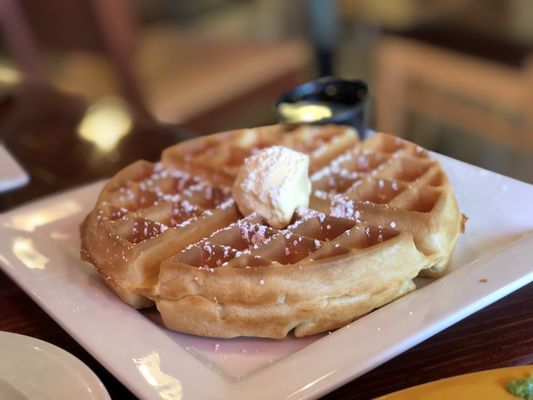sandwich: (147, 123, 465, 341)
